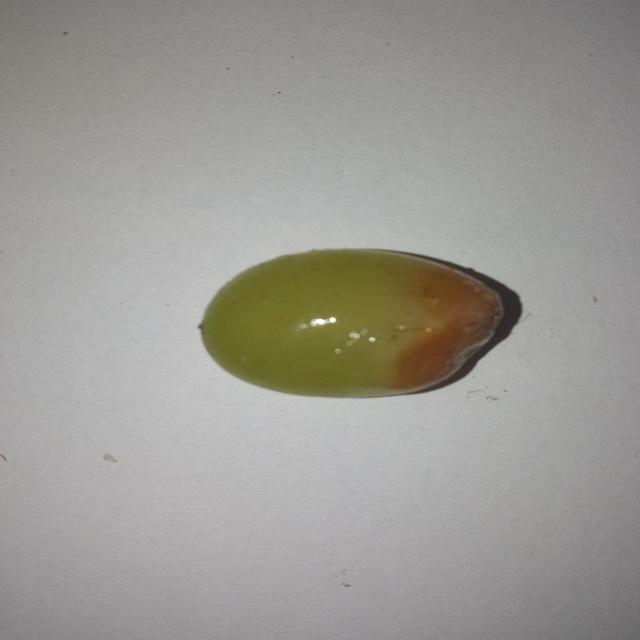rotten_grape: (191, 245, 511, 399)
